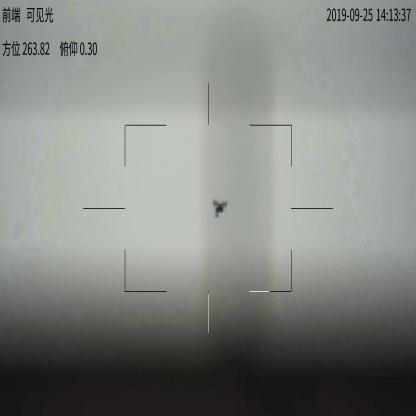uav: (210, 197, 230, 221)
